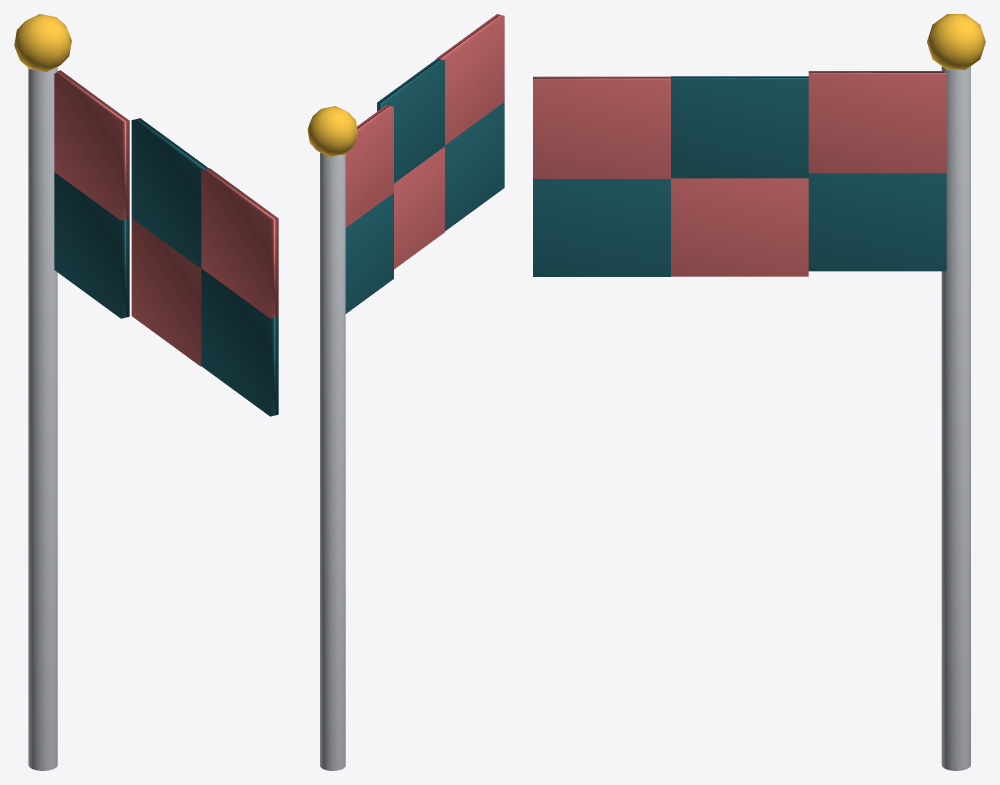
The model's file is acc_flag.glb.
3 views of the same model, side by side, from view 1: azimuth 30°, elevation 25°; view 2: azimuth 150°, elevation 25°; view 3: azimuth 270°, elevation 25° (orthographic). The views are drawn at different scales.
Parts seen in each view (by area): view 1: AccFlag; view 2: AccFlag; view 3: AccFlag.
Boxes of the visible parts, x1,y1,x2,y2 form: AccFlag: [14, 14, 278, 770]; AccFlag: [307, 14, 504, 770]; AccFlag: [533, 14, 985, 770].
Size of the model in its own units: 0.1143 by 1.68 by 0.92.
